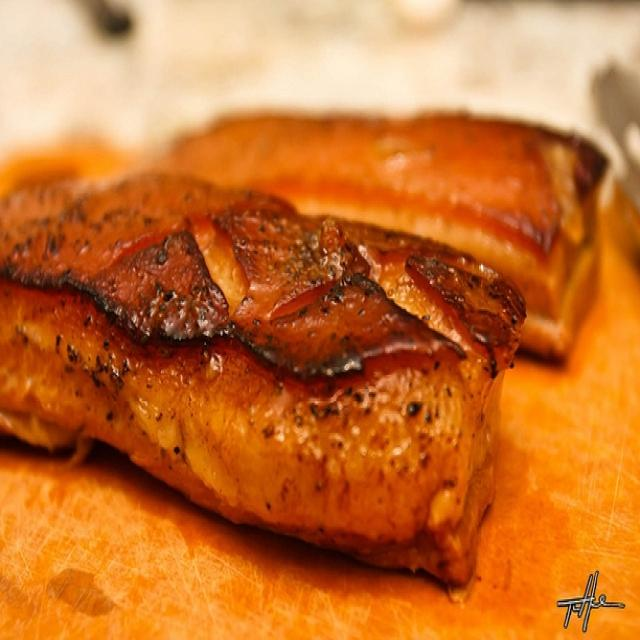牛肉菜式: (14, 50, 597, 615)
